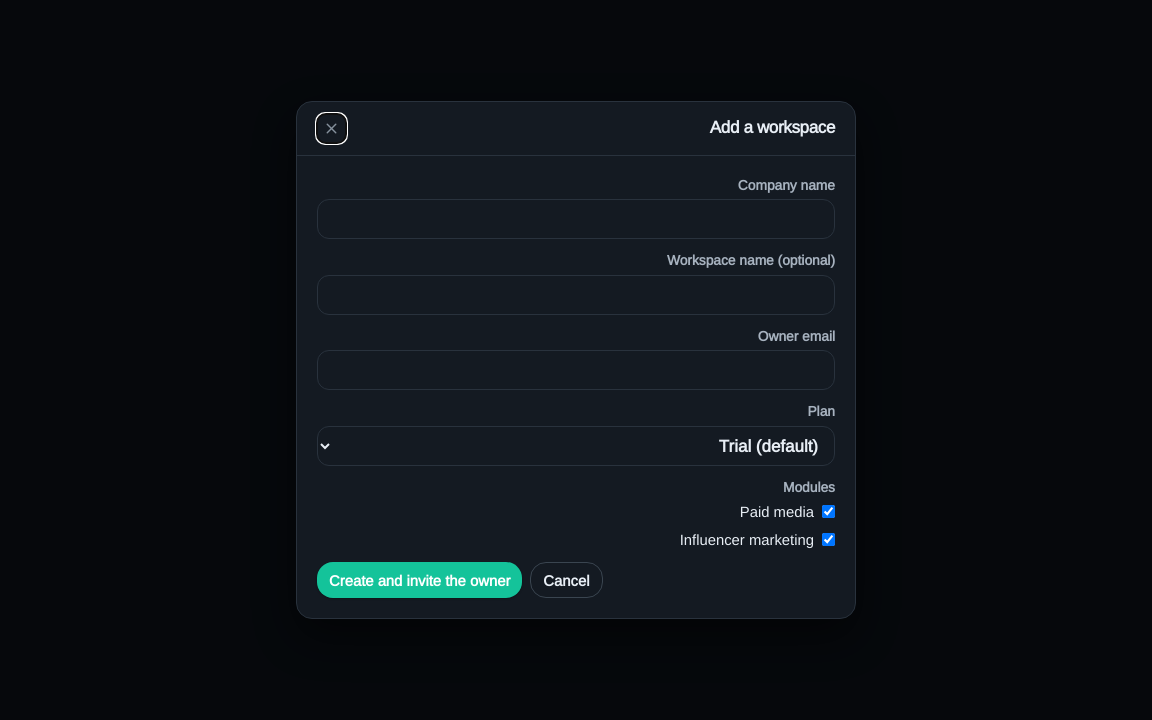
Test case: CreateWorkspaceDialog › says when the workspace already existed and nothing was duplicated
This screenshot has width=1152, height=720.
Type "Acme" into the field with test id "cw-company" at x=576, y=219, box [317,199,835,239]
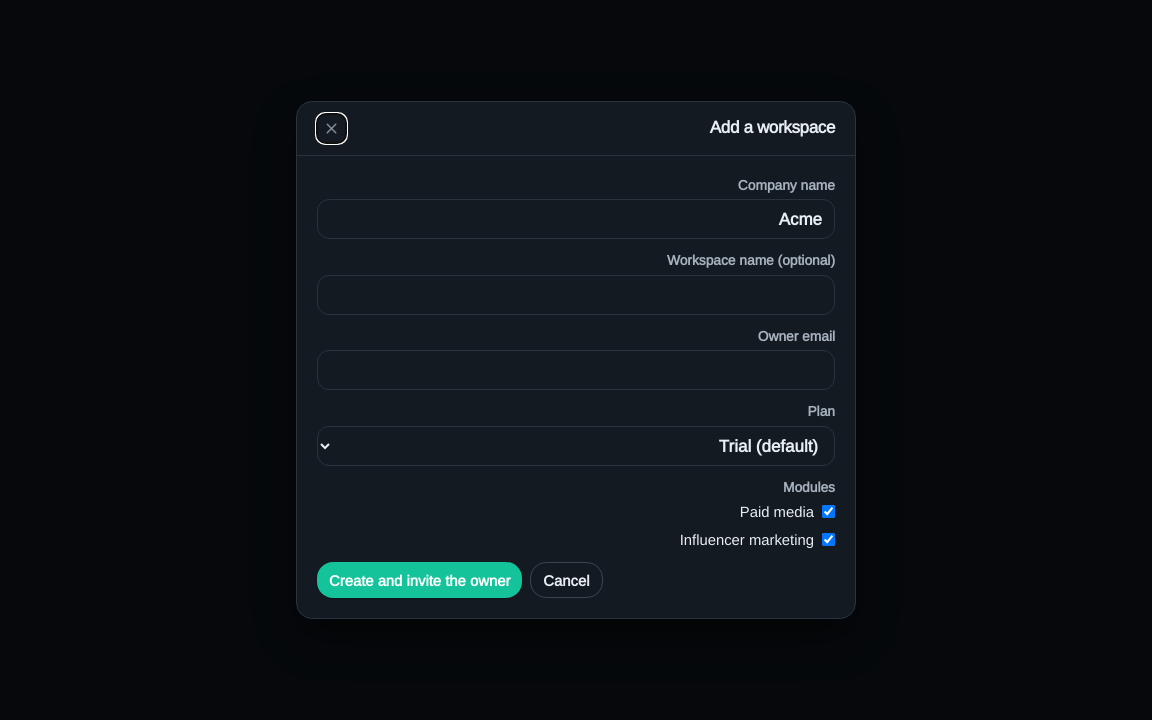
Type "owner@acme.test" into the field with test id "cw-email" at x=576, y=370, box [317,350,835,390]
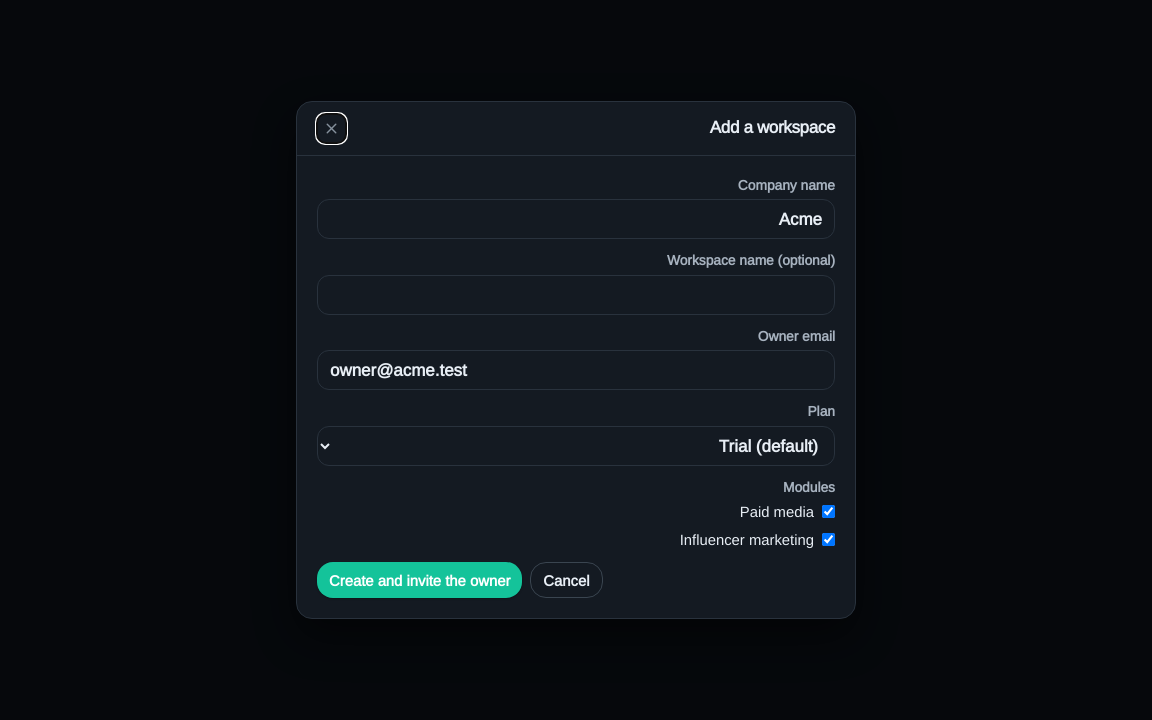
Click the button with test id "cw-submit" at x=420, y=580, box [317,562,522,598]
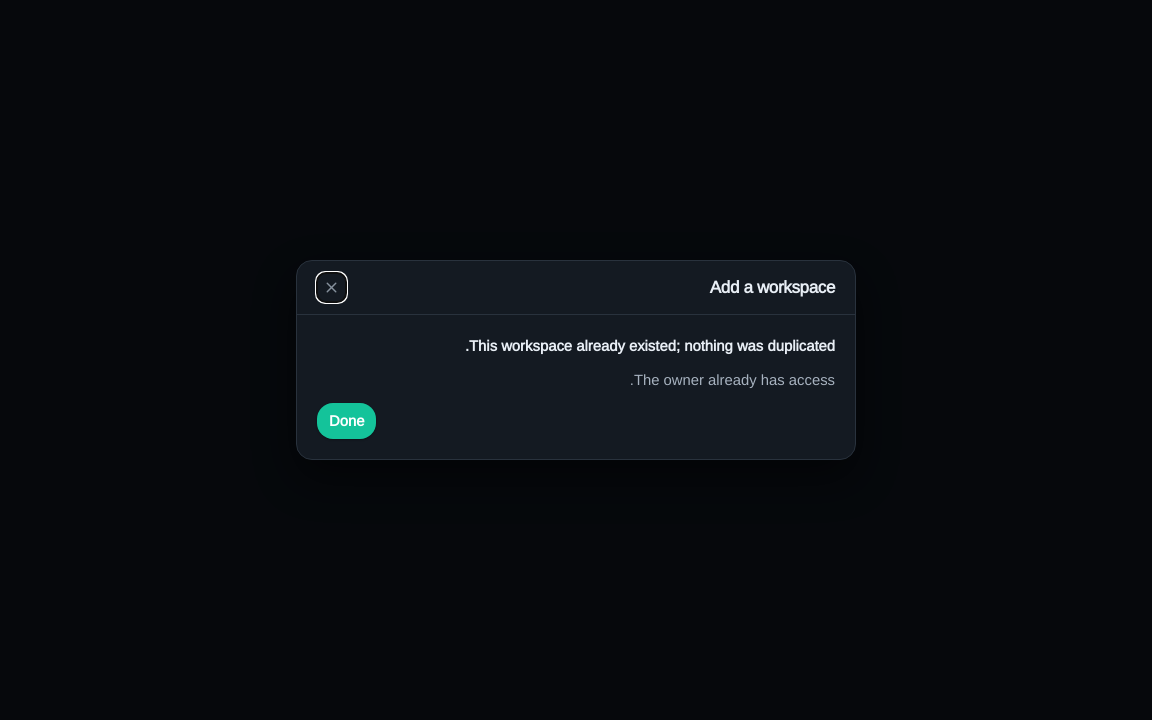
Now the element with test id "create-workspace-result" shows "already existed; nothing was duplicated", box [465,337,835,354]
